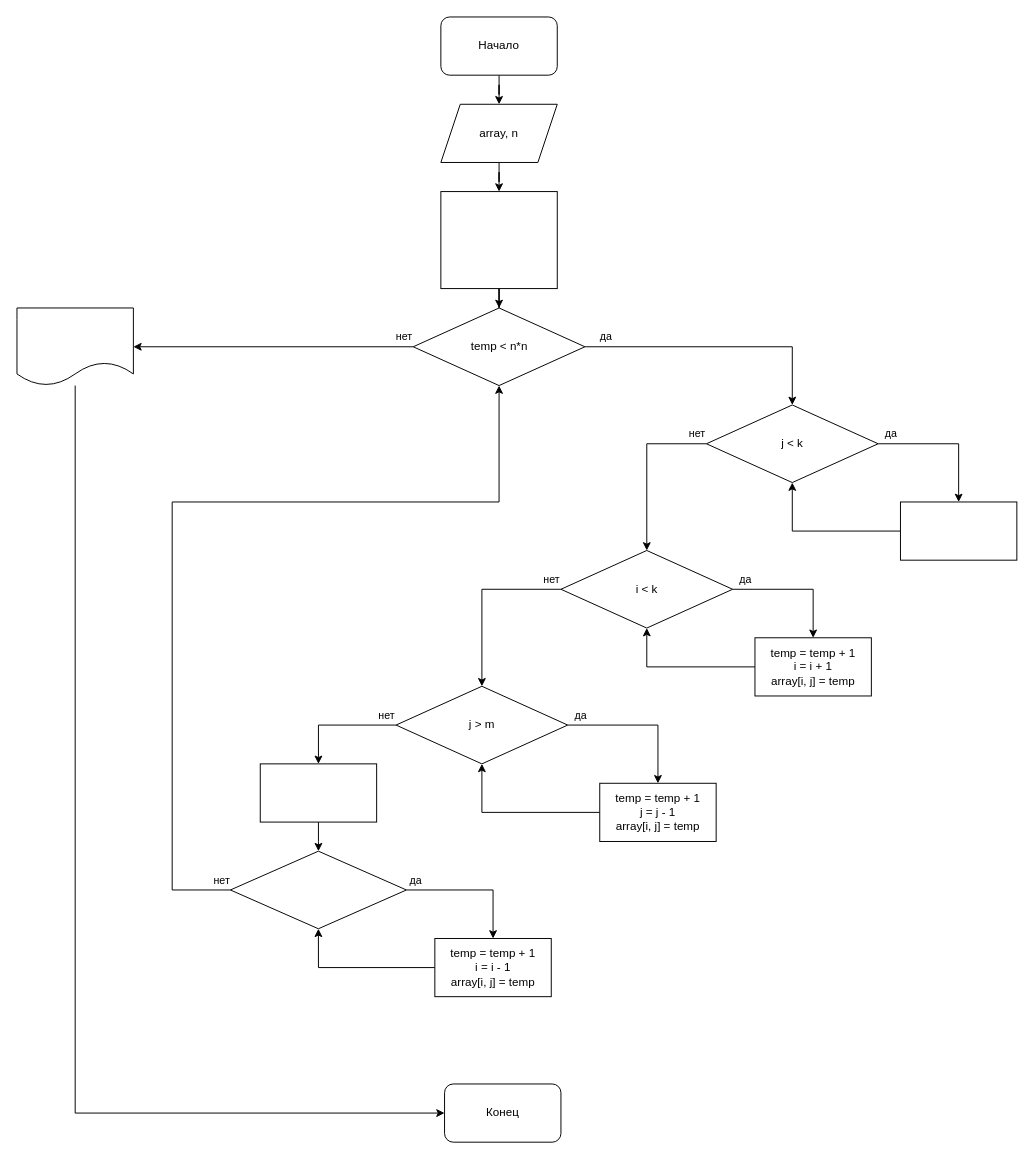
Image size: 1034x1159. Some labels were removed from this diagram. Each missing label, with the box of its shape:
array: (16, 307, 133, 386)
i > m: (229, 850, 406, 929)
m = 0 k = n - 1 i = 0 j = 0 temp = 1 array[i, j] = temp: (440, 191, 557, 289)
m = m + 1 k = k - 1: (259, 763, 377, 822)
temp = temp + 1 j = j + 1 array[i, j] = temp: (899, 501, 1017, 560)
